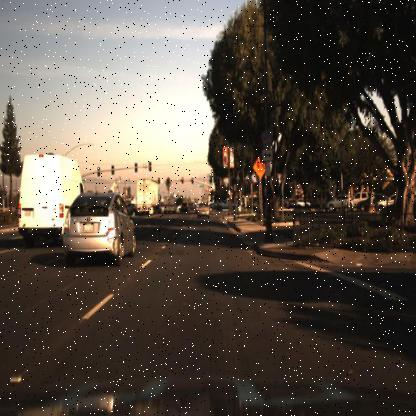car: (16, 150, 84, 242), (61, 186, 140, 261), (345, 188, 372, 216), (357, 192, 389, 214), (161, 191, 180, 219), (377, 193, 397, 214), (327, 192, 347, 210), (195, 199, 212, 219), (355, 197, 375, 214), (179, 199, 192, 217)
truck: (132, 175, 161, 215)
